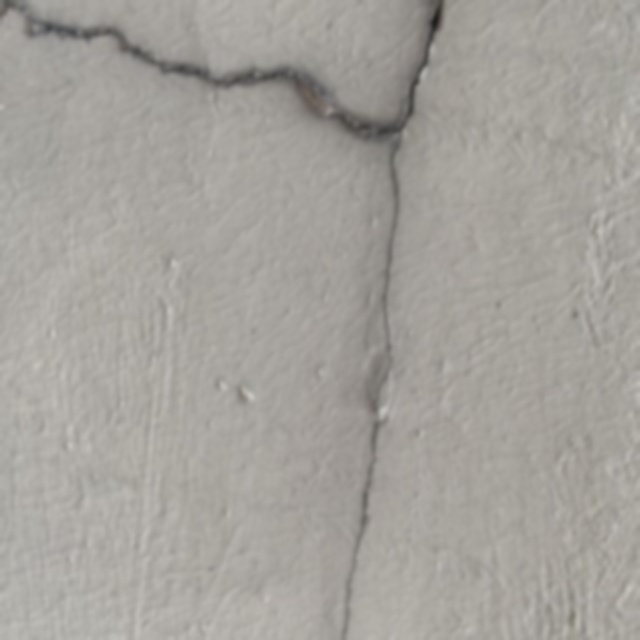SurfaceCrack: (304, 1, 474, 640)
